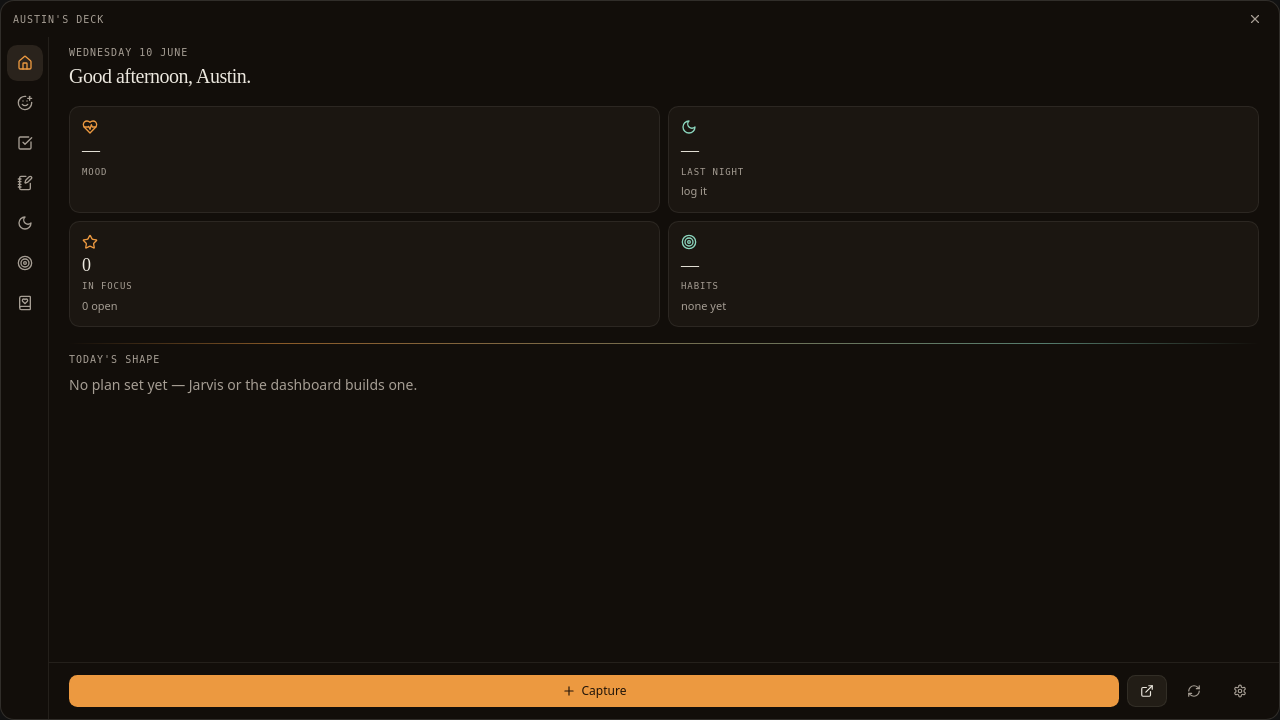
Test: Deck › switches to a placeholder section when its rail item is clicked
Click the button named "Life". click: coordinates (24, 303)
box: [6, 285, 42, 321]
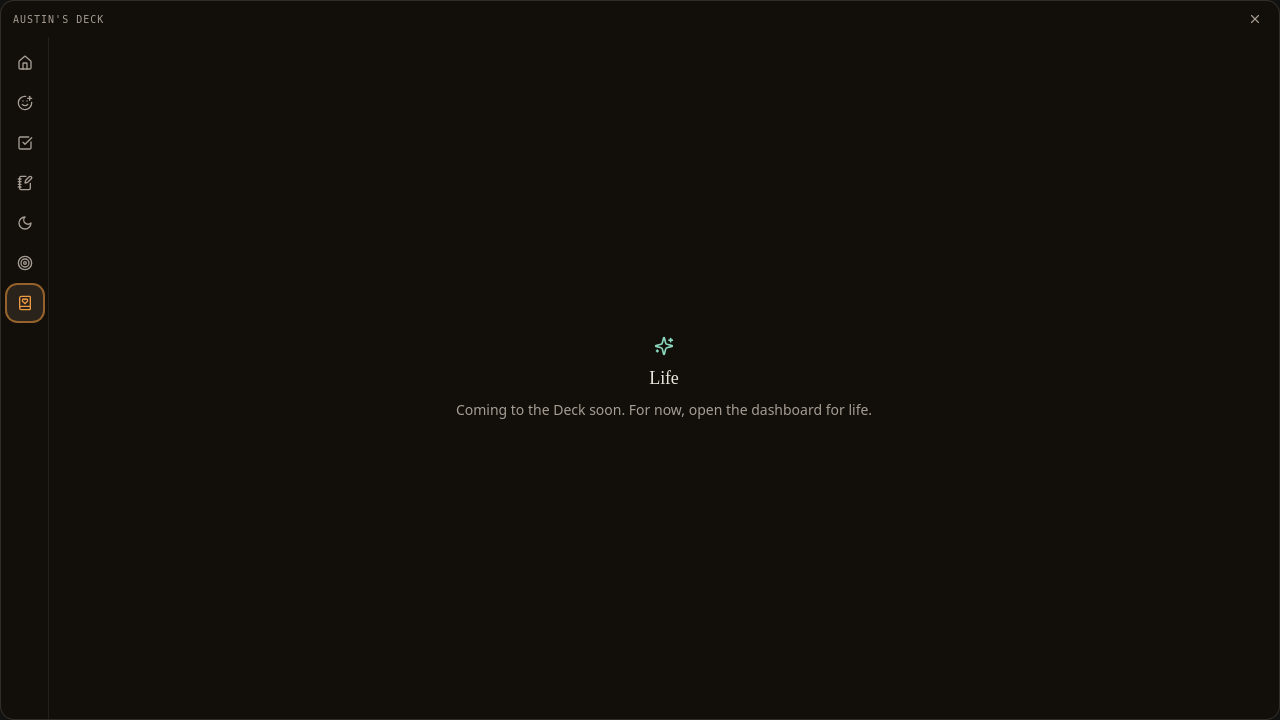
Check: the text "Life" is shown, box [649, 364, 679, 392]
Check: the heading "Austin." is gone
